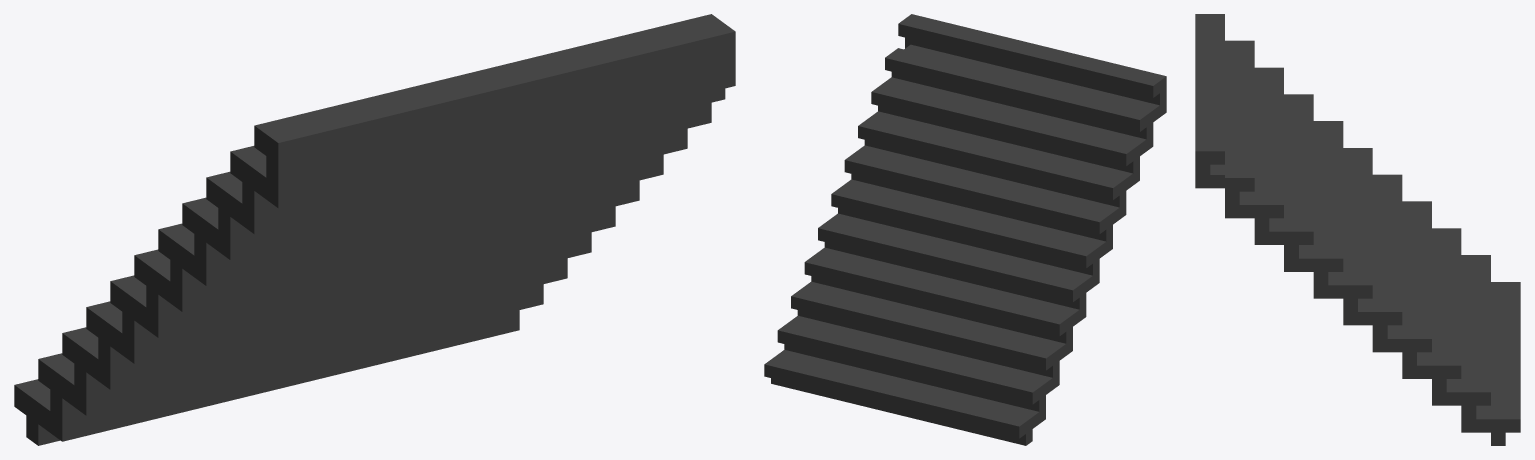
File: mesh_stairs.obj
The picture shows the model from 3 angles, left to right: view 1: azimuth 30°, elevation 25°; view 2: azimuth 150°, elevation 25°; view 3: azimuth 270°, elevation 25°; orthographic projection. The views are drawn at different scales.
Size of the model in its own units: 4.4 by 4.4 by 4.4.
Materials: 1 (1 with a texture image).
